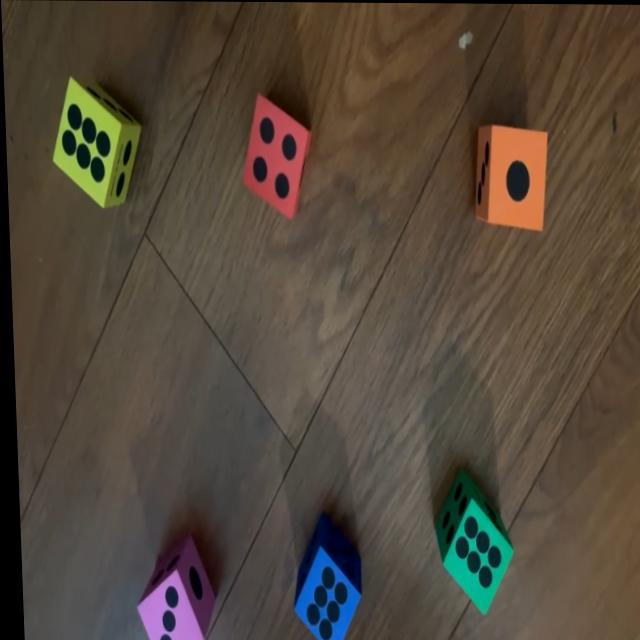cube: (426, 464, 509, 615), (238, 96, 314, 215), (285, 517, 357, 640)
